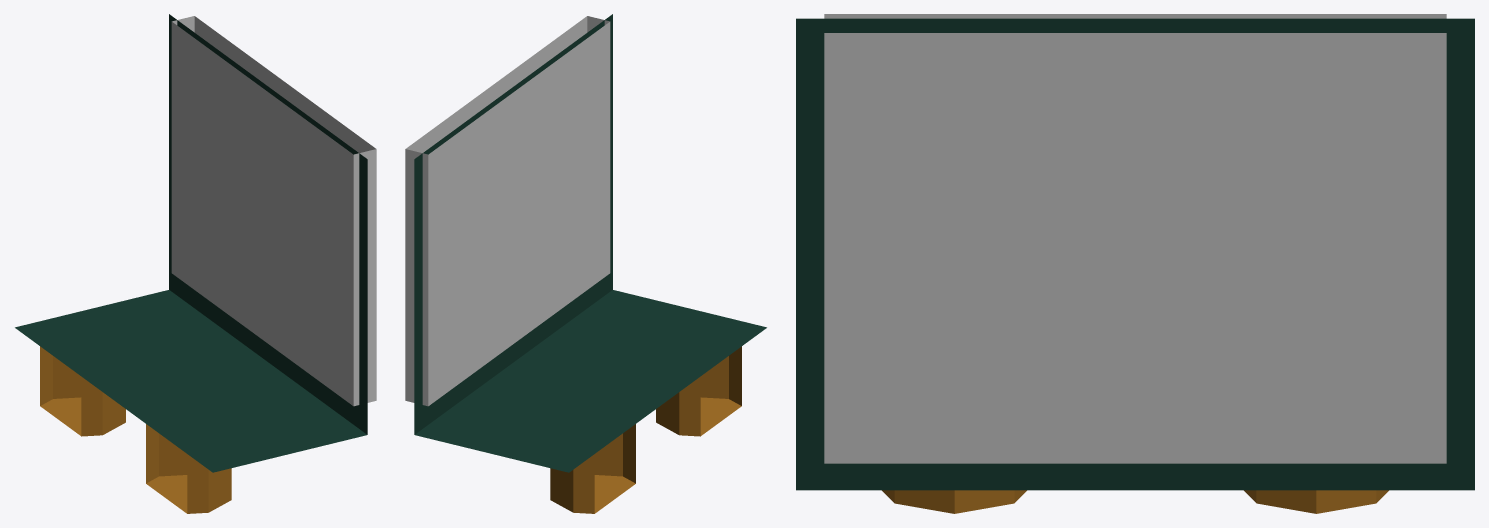
File: cell_189.obj
3 views of the same model, side by side, from view 1: azimuth 30°, elevation 25°; view 2: azimuth 150°, elevation 25°; view 3: azimuth 270°, elevation 25° (orthographic). The views are drawn at different scales.
Size of the model in its own units: 0.5 by 0.9333 by 1.
